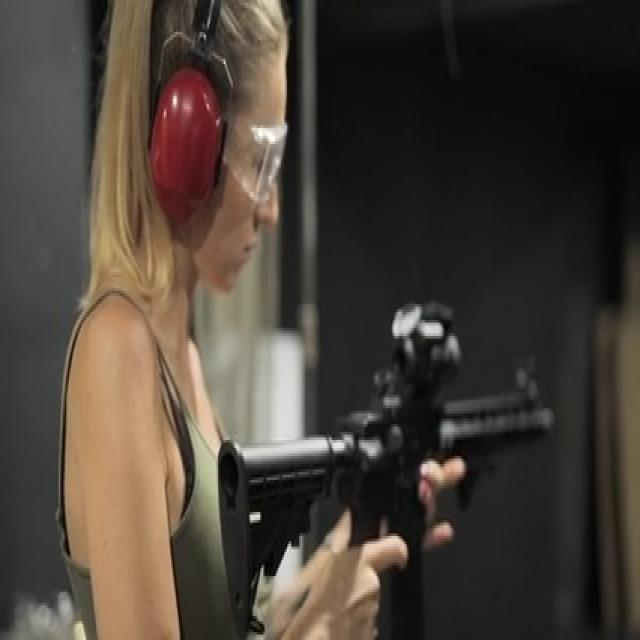Gun_Holder: (209, 287, 621, 640)
Person: (54, 0, 404, 640)
